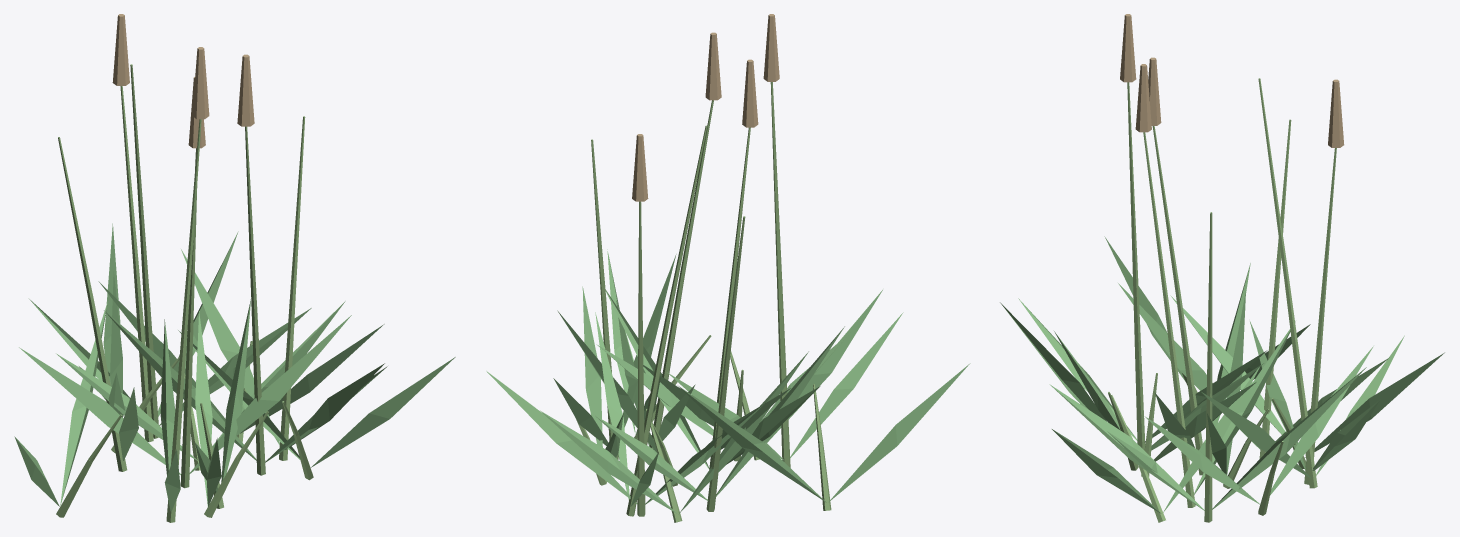
The model's file is plant-reed-b_lod1.glb.
The picture shows the model from 3 angles, left to right: view 1: azimuth 30°, elevation 25°; view 2: azimuth 150°, elevation 25°; view 3: azimuth 270°, elevation 25°; orthographic projection. The views are drawn at different scales.
Visible parts, largest first — view 1: plant-reed-b_full_reedLeaf, plant-reed-b_cut_reedLeaf, plant-reed-b_full_stemGreen, plant-reed-b_full_reedHead, plant-reed-b_cut_stemGreen; view 2: plant-reed-b_full_reedLeaf, plant-reed-b_cut_reedLeaf, plant-reed-b_full_stemGreen, plant-reed-b_full_reedHead, plant-reed-b_cut_stemGreen; view 3: plant-reed-b_cut_reedLeaf, plant-reed-b_full_reedLeaf, plant-reed-b_full_stemGreen, plant-reed-b_full_reedHead, plant-reed-b_cut_stemGreen.
Part boxes in pixels (x1,y1,x2,y2): plant-reed-b_full_reedLeaf: (19, 231, 387, 511); plant-reed-b_cut_reedLeaf: (14, 223, 455, 506); plant-reed-b_full_stemGreen: (58, 64, 305, 522); plant-reed-b_full_reedHead: (112, 14, 254, 148); plant-reed-b_cut_stemGreen: (56, 341, 313, 517); plant-reed-b_full_reedLeaf: (486, 254, 903, 506); plant-reed-b_cut_reedLeaf: (540, 249, 970, 513); plant-reed-b_full_stemGreen: (591, 82, 790, 516); plant-reed-b_full_reedHead: (632, 14, 779, 201); plant-reed-b_cut_stemGreen: (576, 335, 831, 522); plant-reed-b_cut_reedLeaf: (1000, 236, 1444, 513); plant-reed-b_full_reedLeaf: (1018, 263, 1404, 510); plant-reed-b_full_stemGreen: (1127, 78, 1336, 522); plant-reed-b_full_reedHead: (1120, 14, 1344, 147); plant-reed-b_cut_stemGreen: (1108, 373, 1306, 522).
Size of the model in its own units: 1.67 by 1.82 by 1.64.
